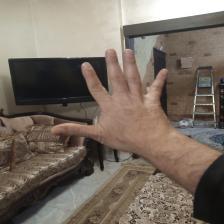five: (52, 46, 183, 151)
